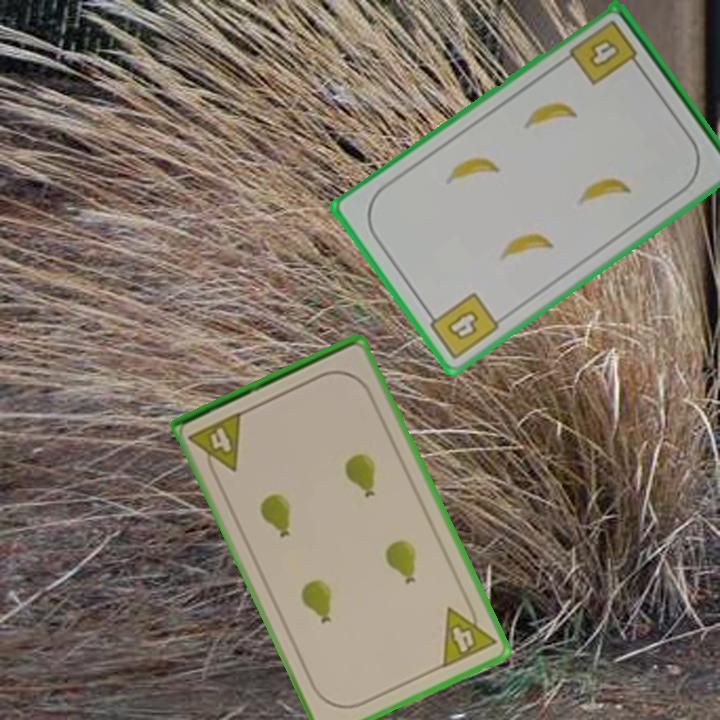4b: (422, 289, 502, 363), (566, 16, 645, 89)
4p: (438, 595, 499, 671), (185, 408, 246, 481)
